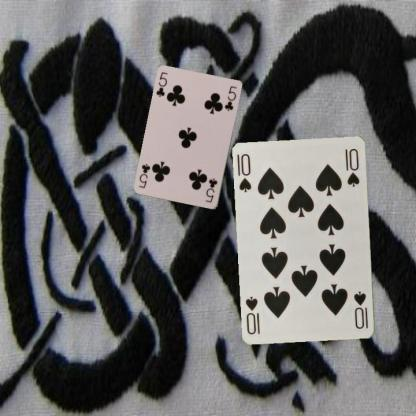10s: (352, 288, 370, 330), (236, 152, 253, 194)
5c: (203, 176, 219, 204), (154, 70, 170, 98)
